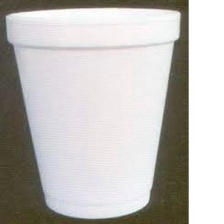paper_cup: (0, 0, 186, 224)
